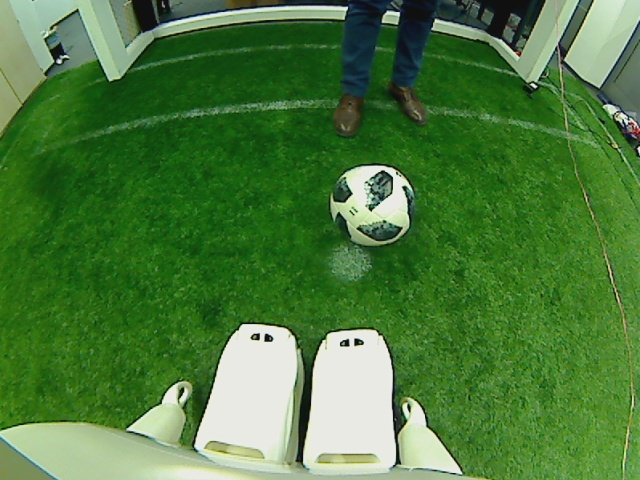ball: (331, 159, 413, 253)
